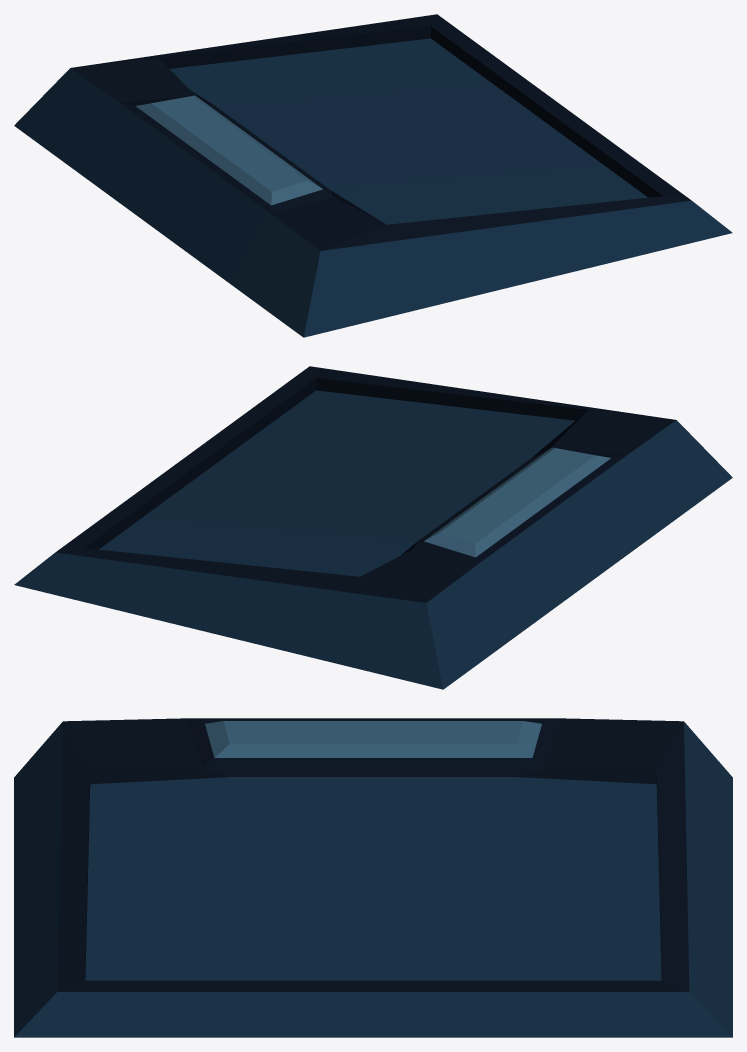
Rendered from table_r.glb.
3 views of the same model, one above another, from view 1: azimuth 30°, elevation 25°; view 2: azimuth 150°, elevation 25°; view 3: azimuth 270°, elevation 25° (orthographic). The views are drawn at different scales.
Parts seen in each view (by area): view 1: Board; view 2: Board; view 3: Board.
Boxes of the visible parts, left/top/right/bottom form: Board: left=14, top=14, right=732, bottom=337; Board: left=14, top=366, right=732, bottom=689; Board: left=14, top=718, right=732, bottom=1037.
Bounding box in the file's own units: 3.91 × 0.621 × 4.57.
1 material, 1 textured.
